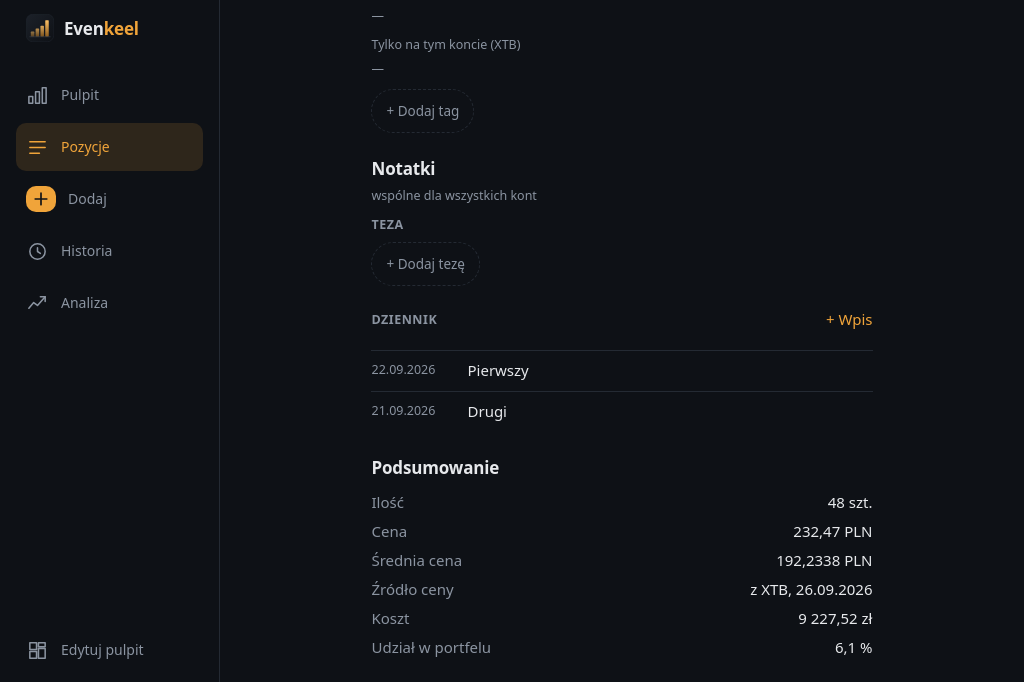
Test: Notatki in the details › keeps a pending save visible when another entry is opened
(page scrolled)
Click the button "Pierwszy" at x=498, y=370, box left=468, top=359, right=872, bottom=383
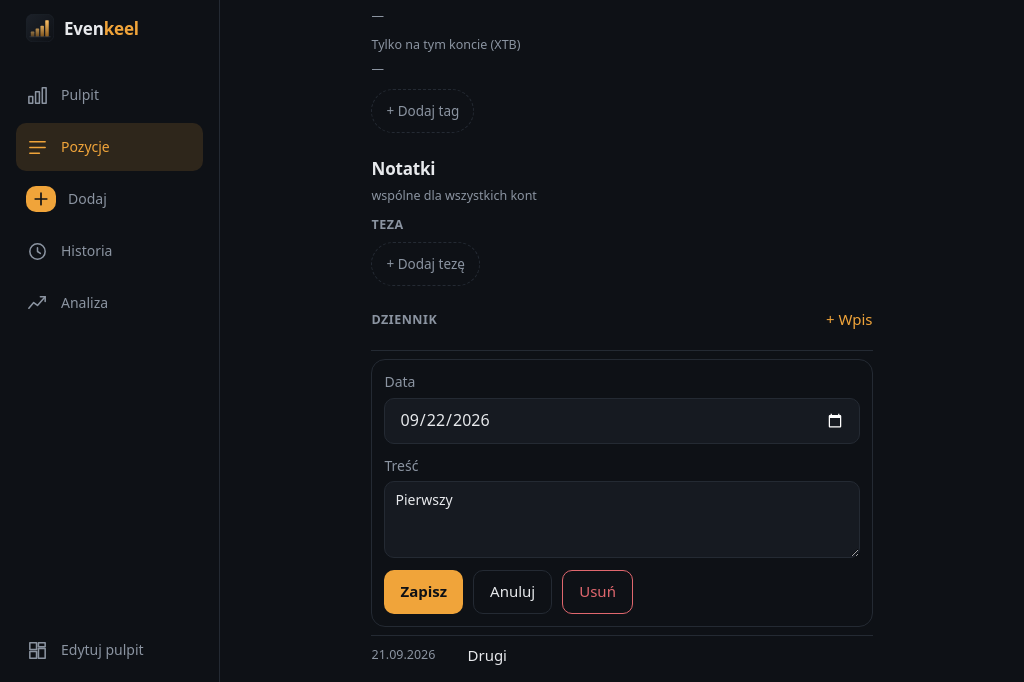
Click the button "Zapisz" at x=424, y=592, box left=384, top=570, right=463, bottom=614
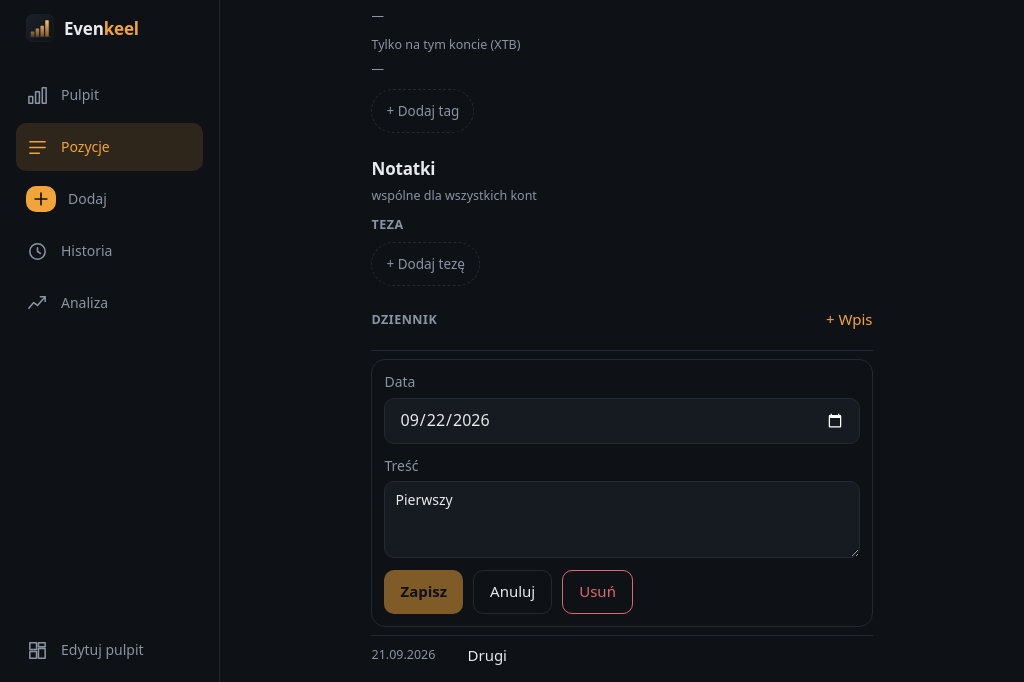
Click the button "Anuluj" at x=513, y=592, box left=473, top=570, right=552, bottom=614
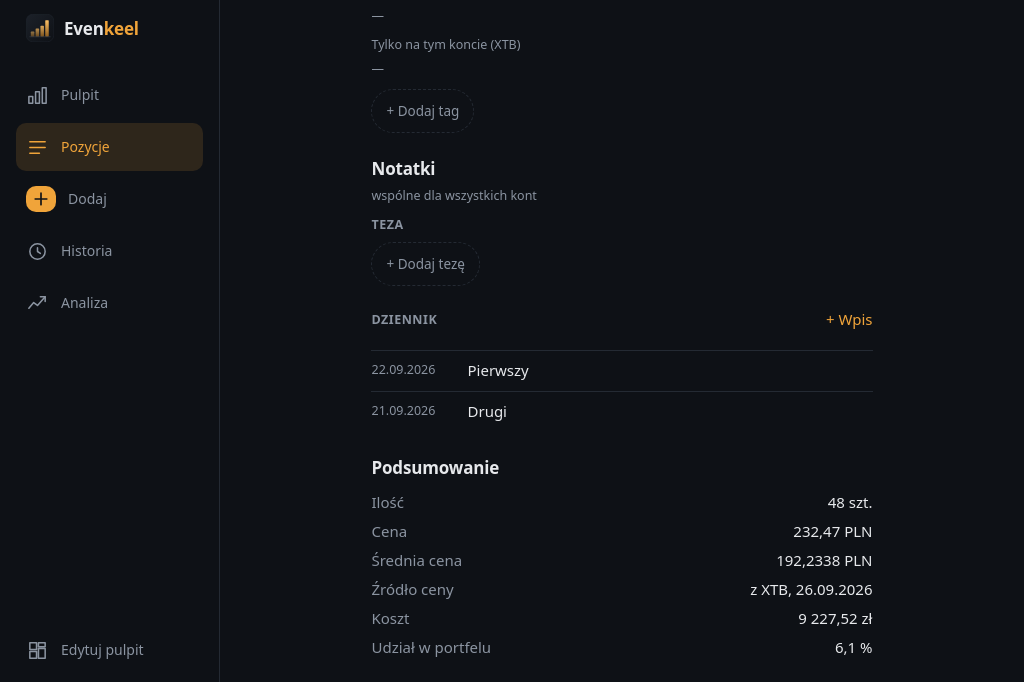
Click the button "Drugi" at x=487, y=411, box left=468, top=400, right=872, bottom=424
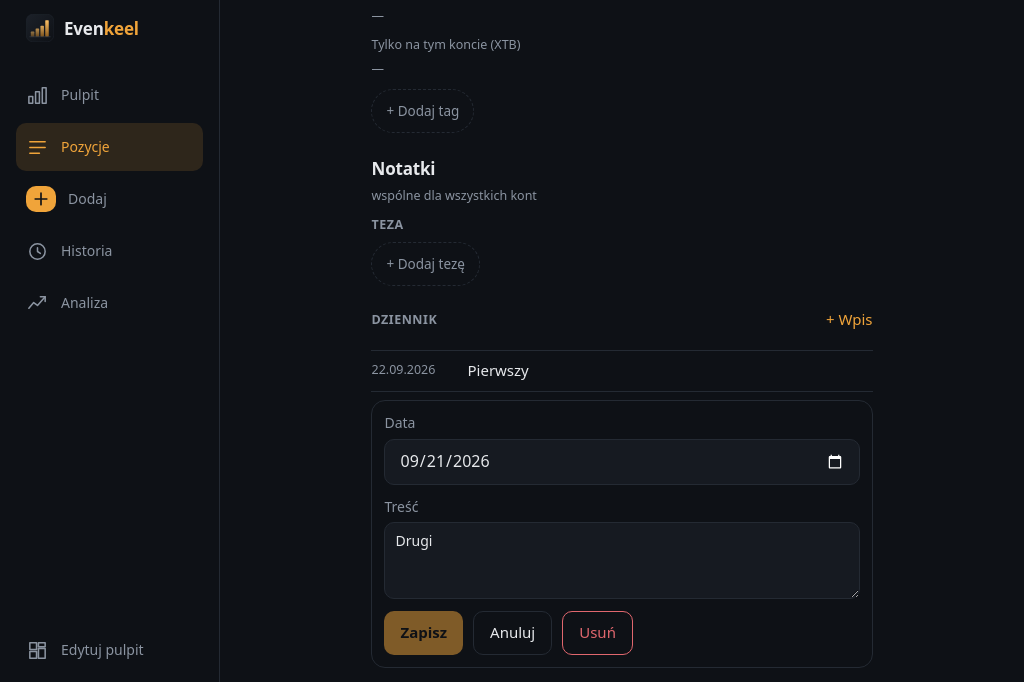
Result: the button "Zapisz" is disabled at left=384, top=611, right=463, bottom=655
